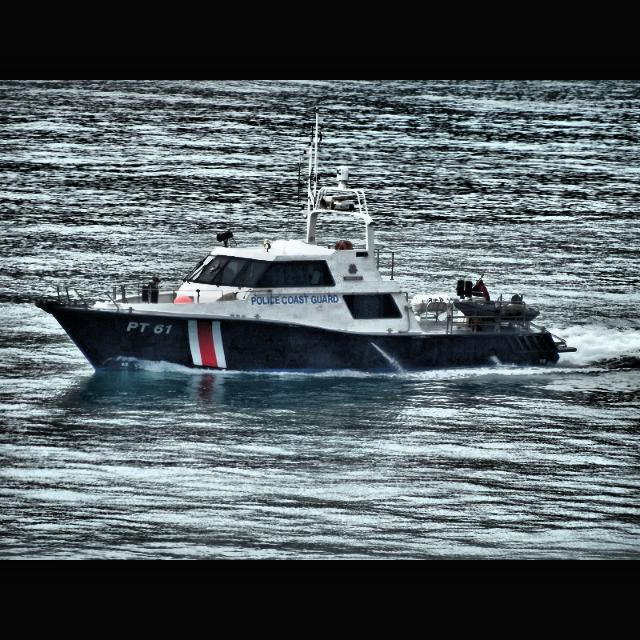patrol_vessel: (31, 164, 582, 380)
